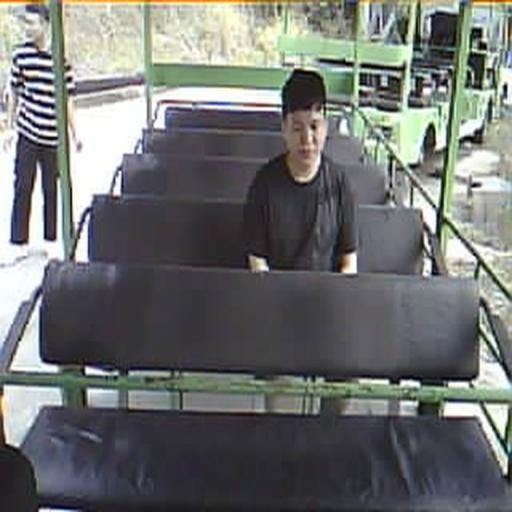persona: (242, 67, 360, 274)
